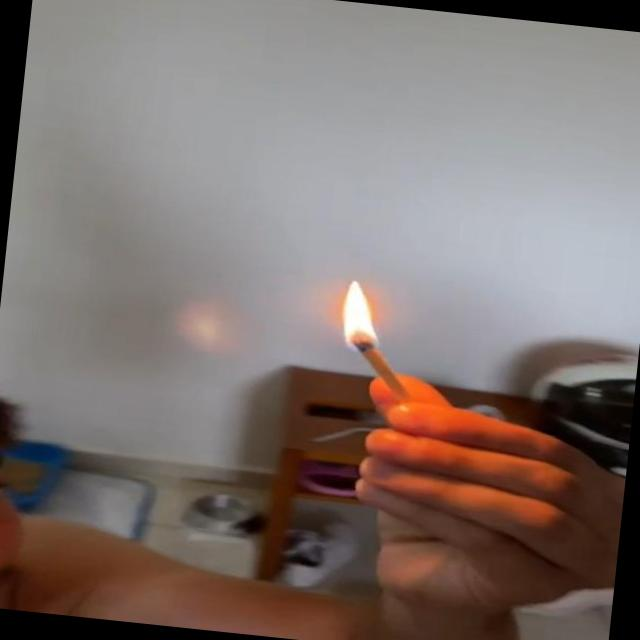Fire: (330, 270, 389, 362)
